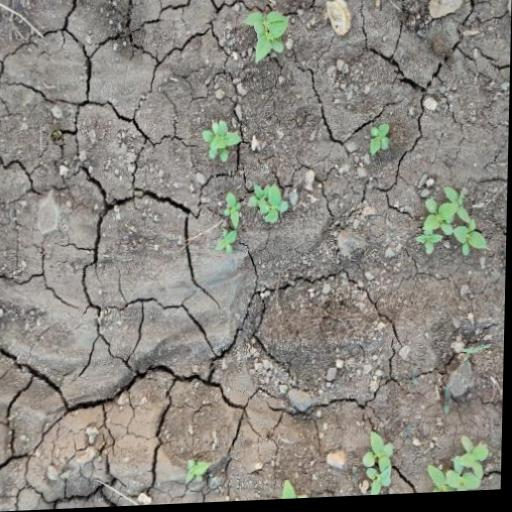crop: (419, 190, 488, 263), (429, 437, 492, 497), (351, 434, 409, 499), (235, 9, 292, 64), (195, 119, 242, 166), (249, 180, 293, 226), (215, 190, 246, 230), (366, 128, 395, 160), (187, 460, 215, 485), (214, 230, 241, 255)
